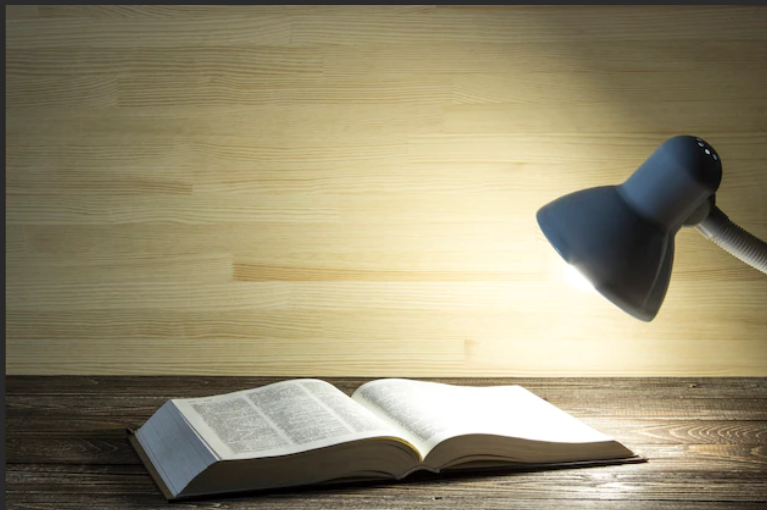book: (119, 378, 648, 497)
